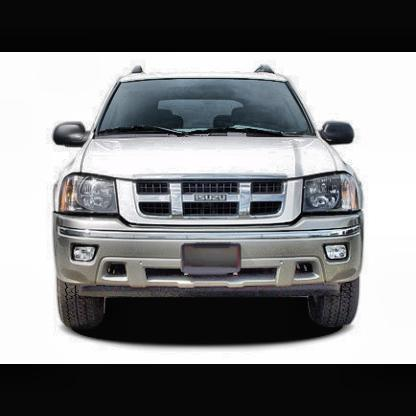Isuzu Ascender SUV 2008: (50, 61, 369, 348)
